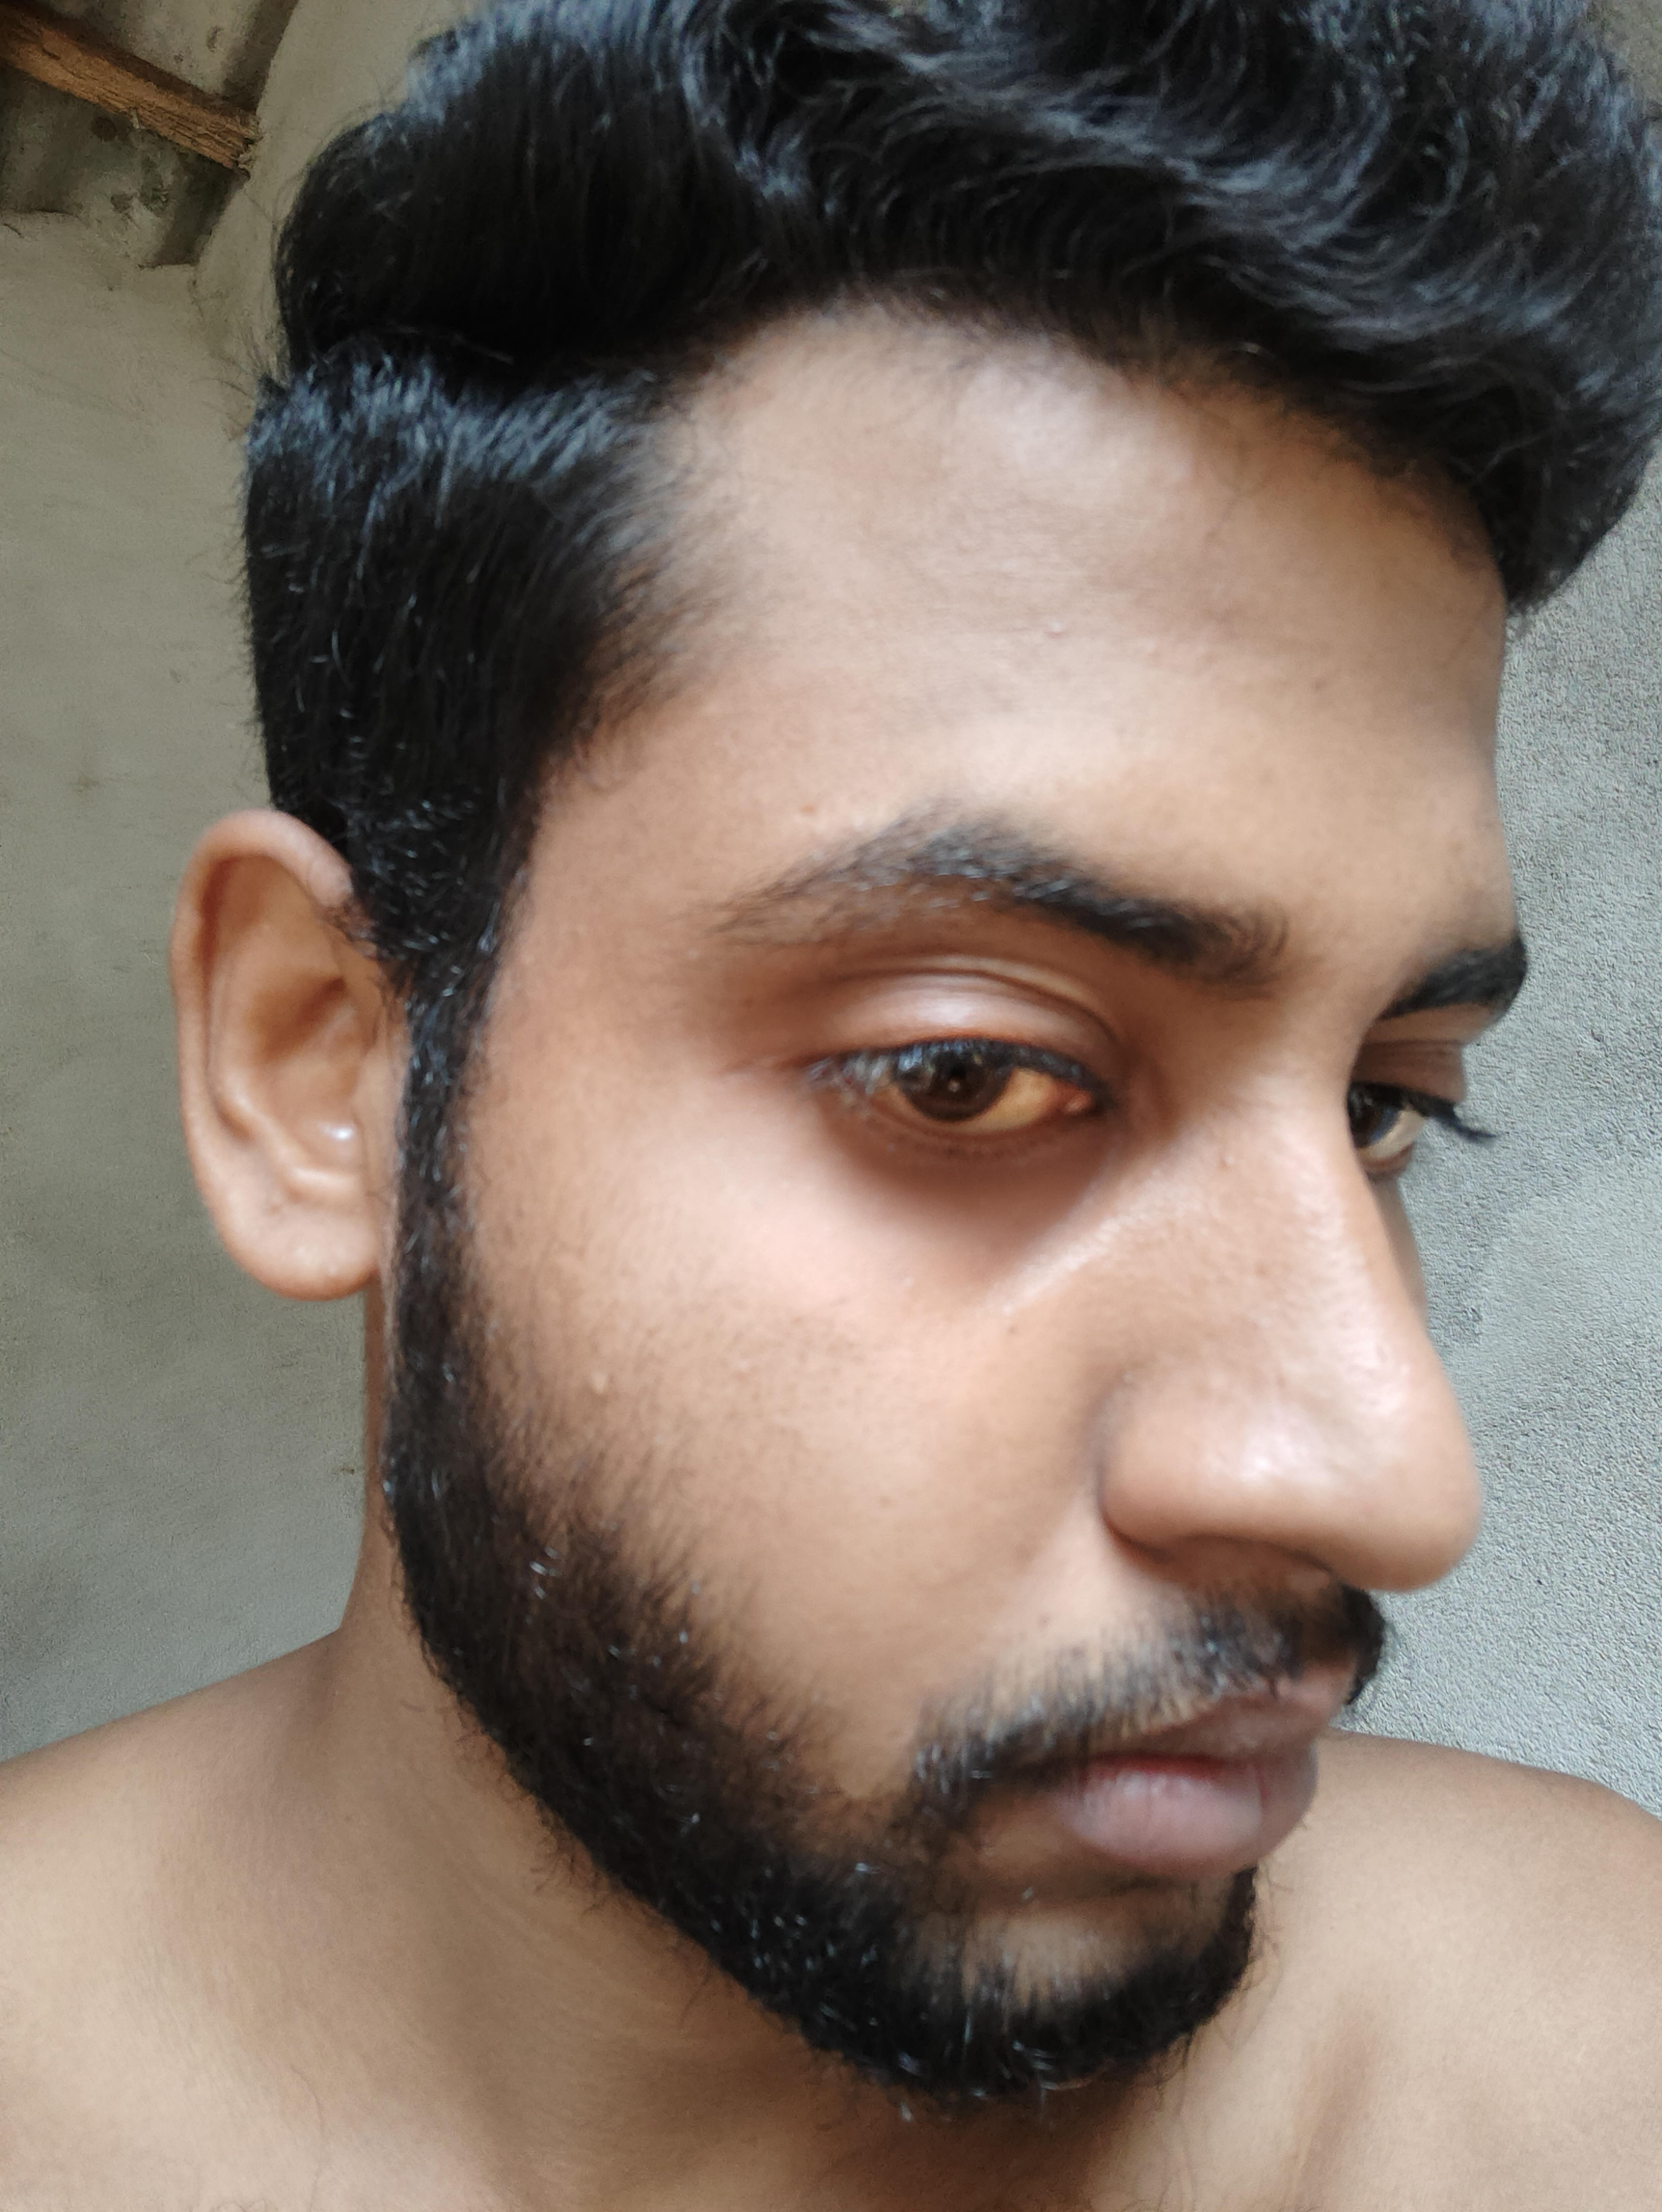Acne: (573, 1362, 623, 1404), (1037, 611, 1075, 648), (1208, 1145, 1241, 1178)
